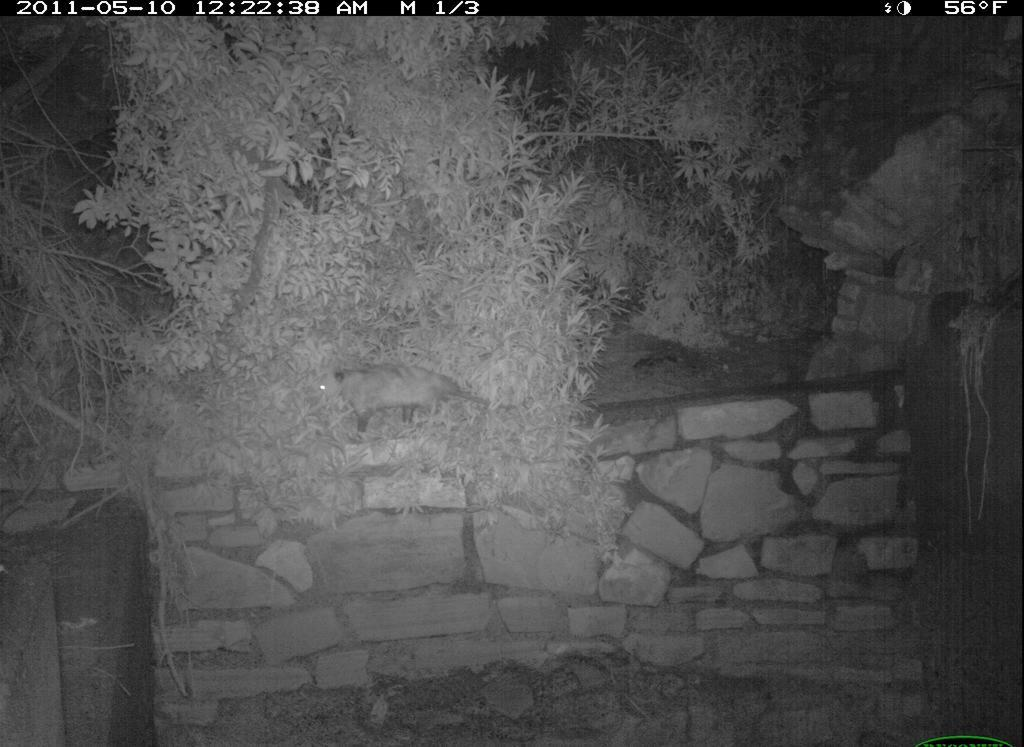opossum: (317, 351, 528, 441)
